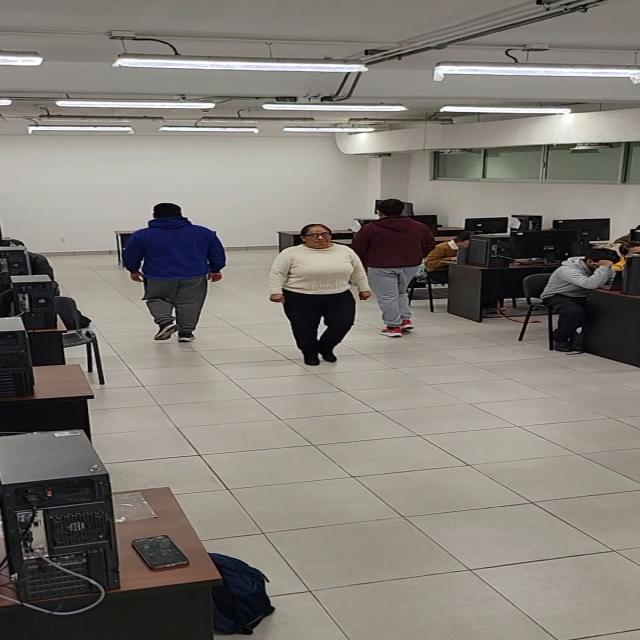Persona: (116, 199, 226, 349), (269, 222, 370, 368), (354, 199, 431, 337)
